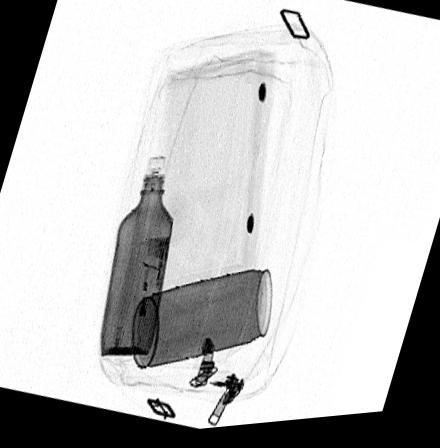Lighter: (125, 238, 172, 355)
